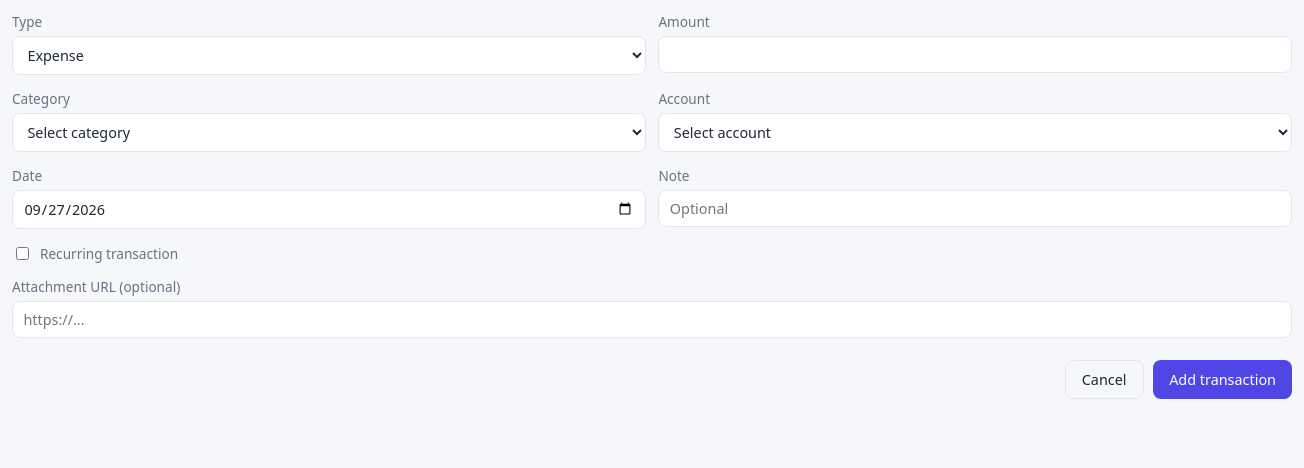
Test: TransactionForm › shows a validation error when no account is selected
In the number field: (975, 54) [658,36,1292,73], type "500"
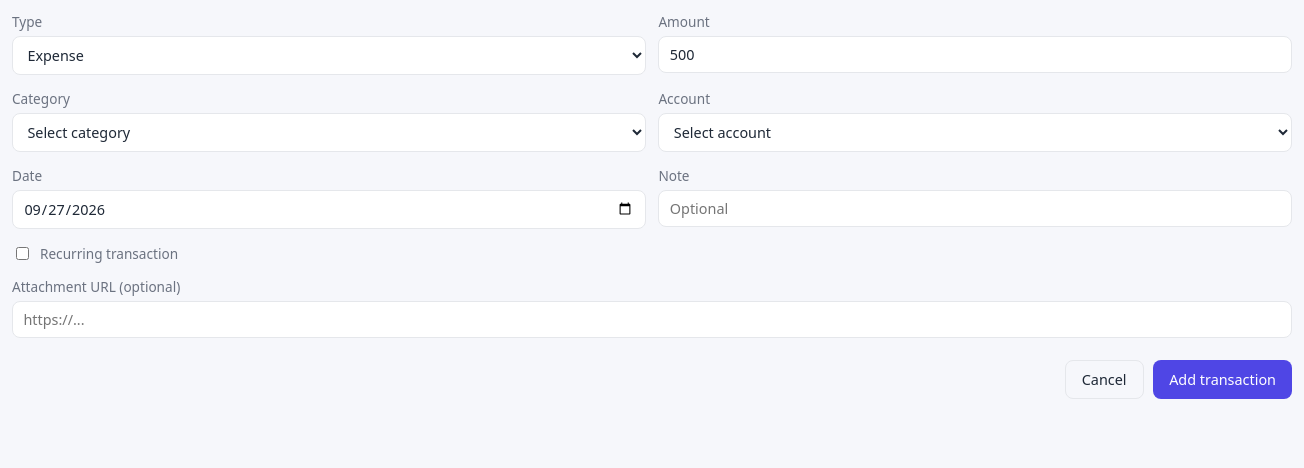
Select "Food" in the dropdown showing "Select category": (329, 132) [12,113,646,152]
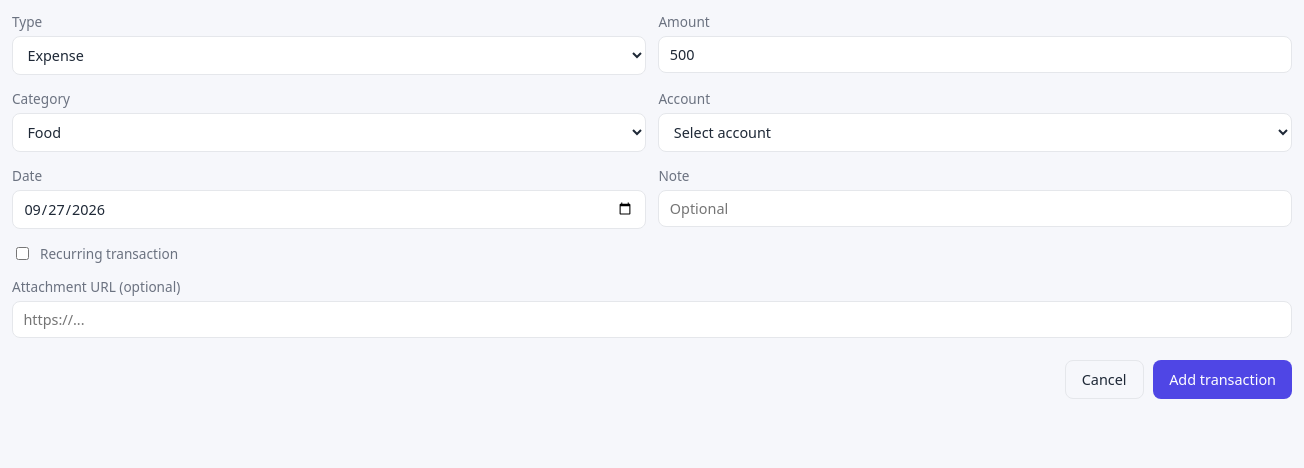
Click the button "Add transaction": (1223, 379) [1153,360,1292,399]
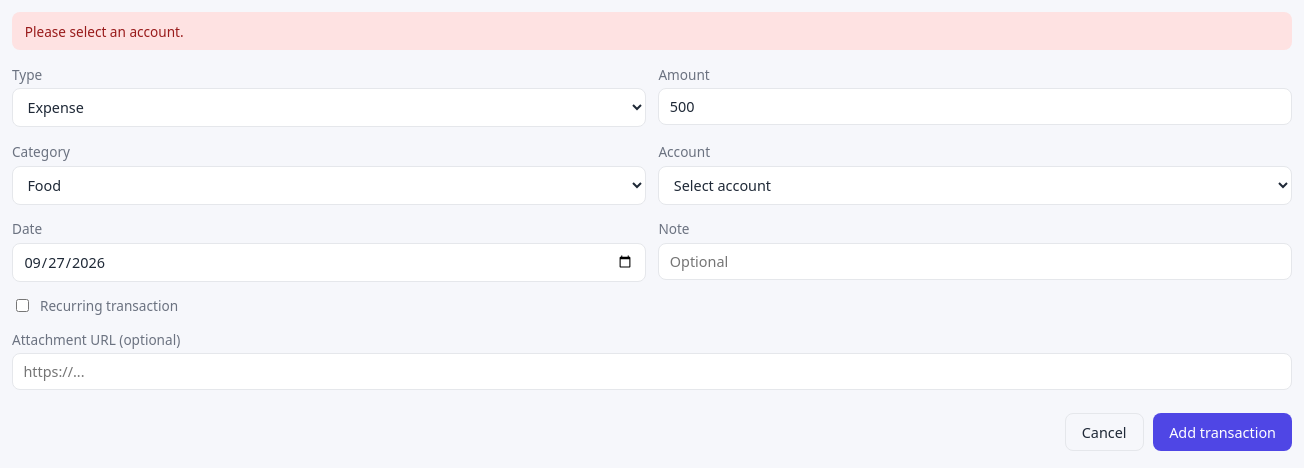
Check: the text "Please select an account." is shown, box [12,12,1292,50]
